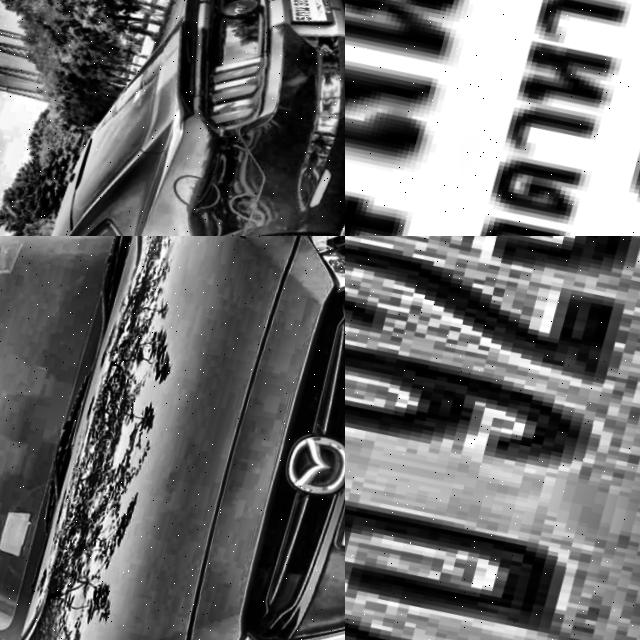license-plate: (345, 236, 640, 640), (345, 0, 640, 236), (271, 0, 345, 42)
